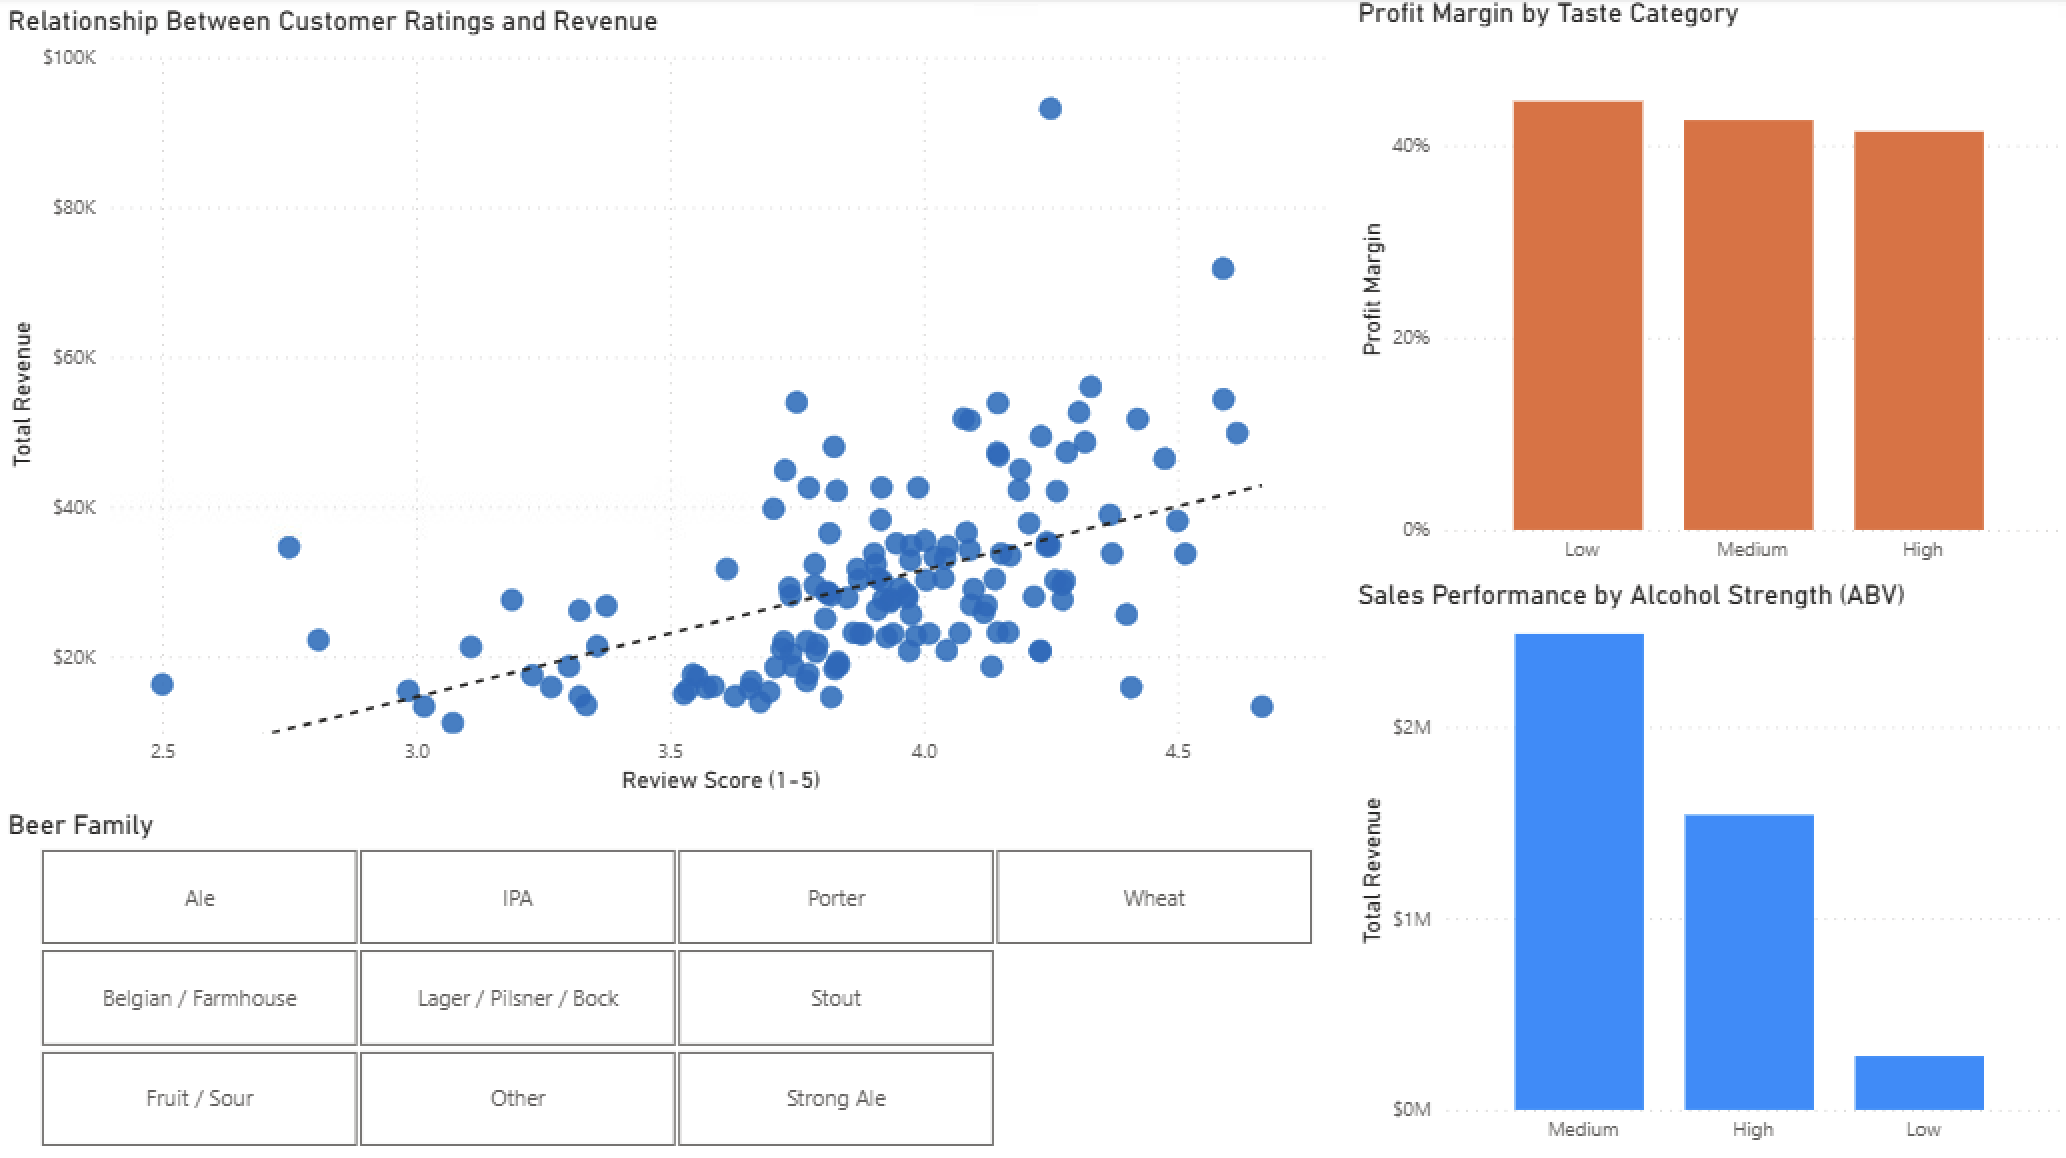

Layout of this report page (visuals, bound fields, positions):
{"tool":"powerbi","page":{"name":"Product Quality","canvas":[1280,720],"ordinal":3},"visuals":[{"type":"columnChart","fields":{"Category":["Product.Taste Category"],"Y":["Transaction_Data.Profit Margin"]},"box":[836,0,444,360.5],"z":0},{"type":"columnChart","title":"Sales Performance by Alcohol Strength (ABV)","fields":{"Y":["Transaction_Data.Total Revenue"],"Category":["Product.ABV Category"]},"box":[836,360.5,444,359.2],"z":1000},{"type":"scatterChart","title":"Relationship Between Customer Ratings and Revenue","fields":{"X":["Product.review_overall(1-5 scale)"],"Y":["Transaction_Data.Total Revenue"]},"box":[0,0,836,498.3],"z":2000},{"type":"slicer","title":"Beer Family","fields":{"Values":["Product.family"]},"box":[0,498,836,221],"z":3000}]}

Visuals, with their boxes in screenshot pixels (x1, y1, x2, y2), scaled from the page's 1280x720 canvas onto the 2066x1158 screenshot:
columnChart - Product.Taste Category x Transaction_Data.Profit Margin: Rect(1349, 0, 2065, 580)
"Sales Performance by Alcohol Strength (ABV)" columnChart: Rect(1349, 580, 2065, 1157)
"Relationship Between Customer Ratings and Revenue" scatterChart: Rect(0, 0, 1349, 801)
"Beer Family" slicer: Rect(0, 801, 1349, 1156)
